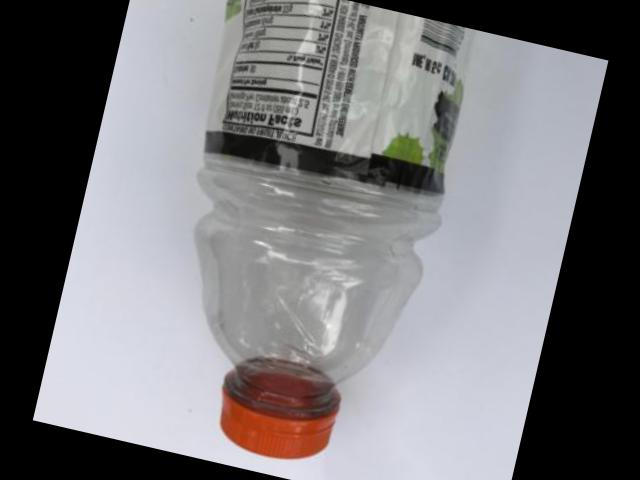plastic: (198, 0, 475, 459)
